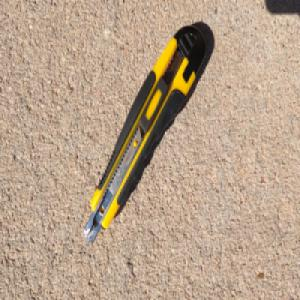Cutter: (82, 23, 207, 244)
